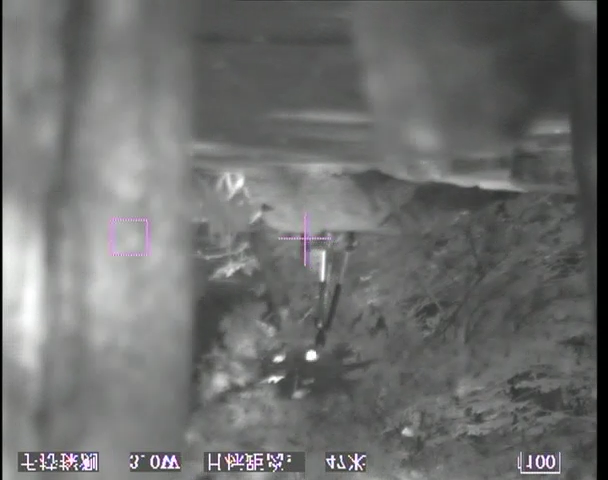my: (303, 348, 317, 362)
